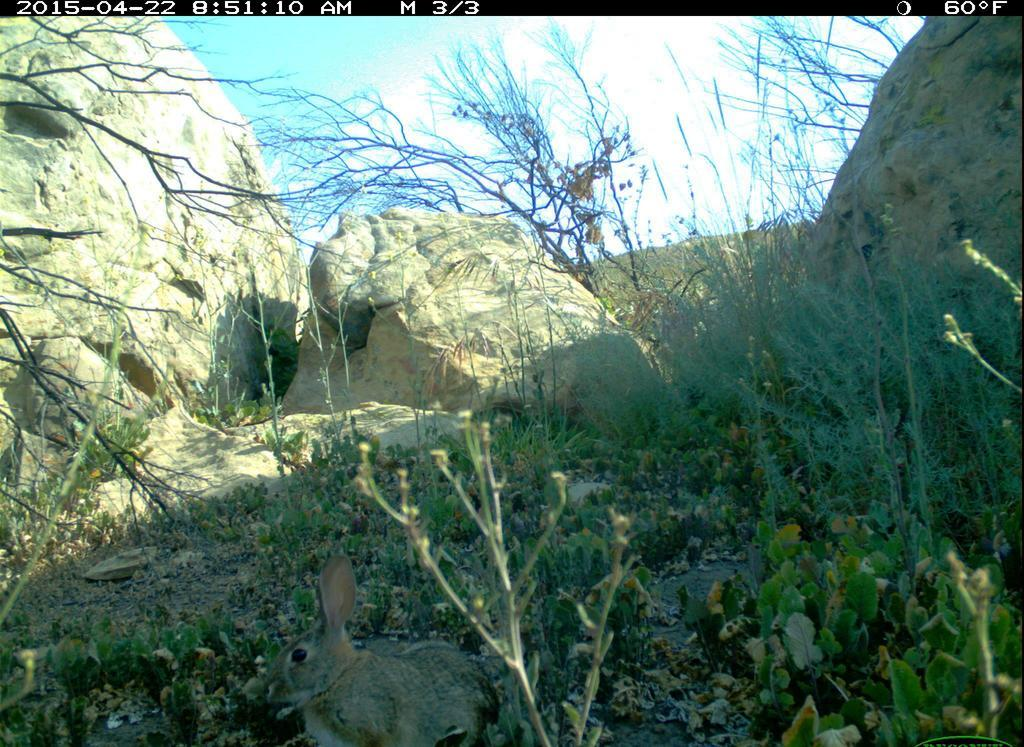rabbit: (264, 564, 555, 747)
